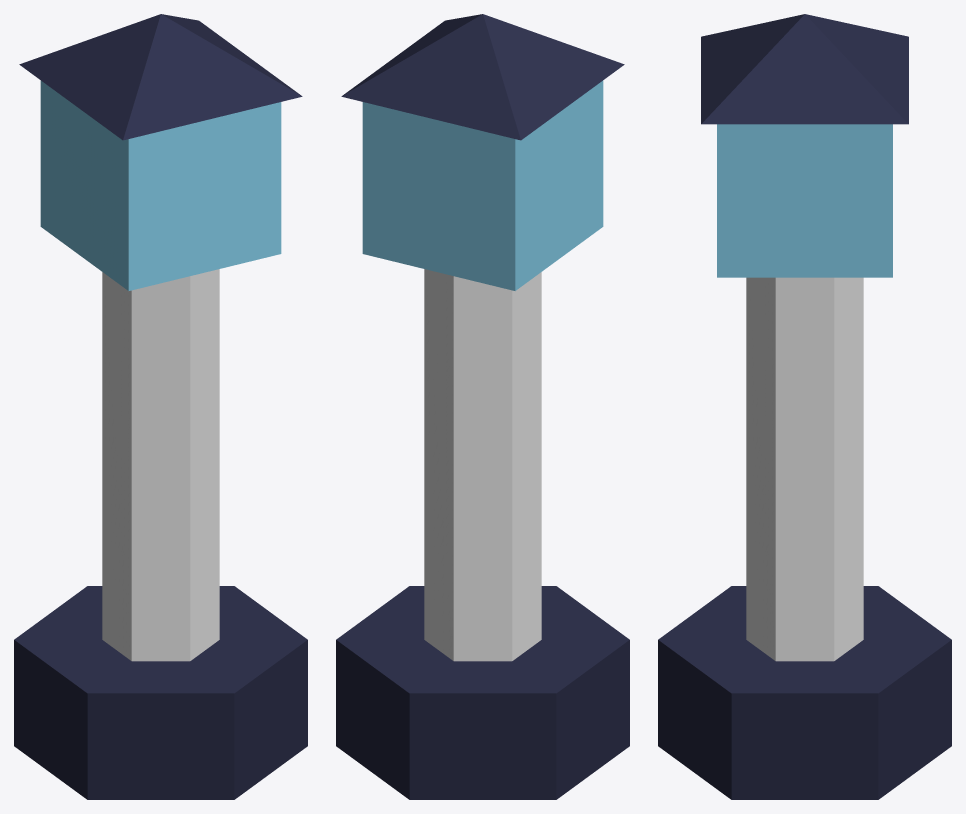
File: beacon-light.glb
3 views of the same model, side by side, from view 1: azimuth 30°, elevation 25°; view 2: azimuth 150°, elevation 25°; view 3: azimuth 270°, elevation 25° (orthographic).
Parts seen in each view (by area): view 1: space-beacon-light; view 2: space-beacon-light; view 3: space-beacon-light.
Part boxes in pixels (x1=…): space-beacon-light: x1=14, y1=14, x2=307, y2=799; space-beacon-light: x1=336, y1=14, x2=629, y2=799; space-beacon-light: x1=658, y1=14, x2=951, y2=799.
Size of the model in its own units: 0.1732 by 0.55 by 0.2.
